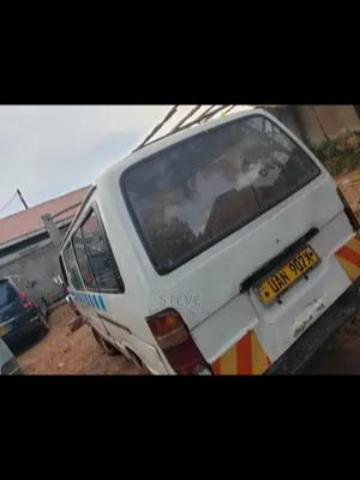van: (58, 109, 353, 374)
